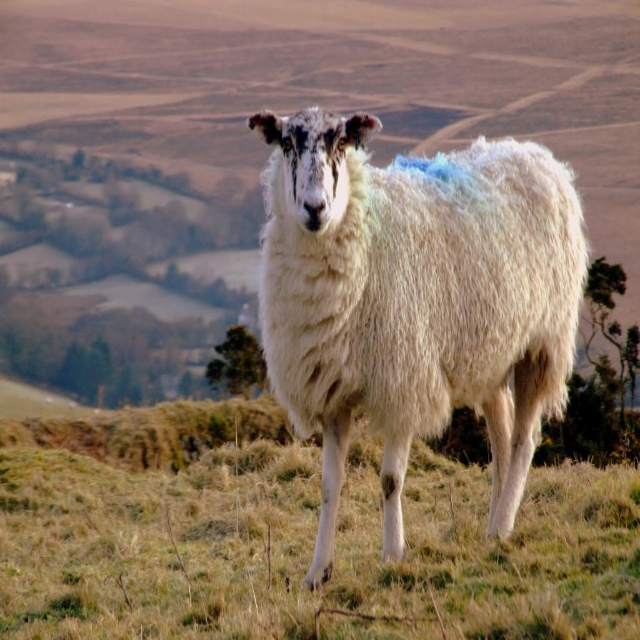Sheep: (246, 105, 596, 592)
